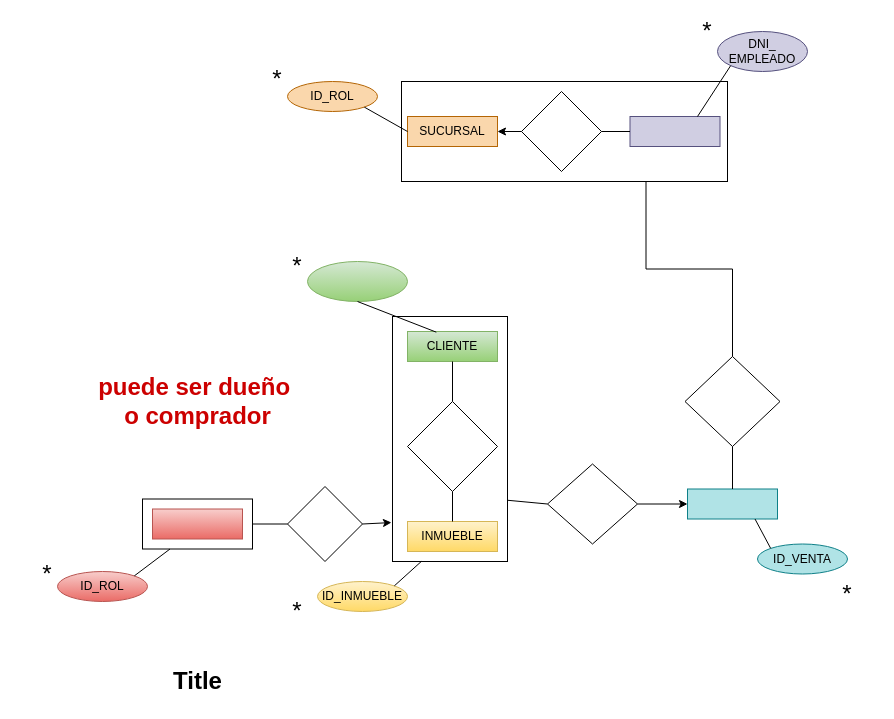
This 894x719 diagram has some shape labels left out. The centre of each missing label's shape, as x and y in pixels:
"DNI_CLIENTE" belongs at [357,281].
"EMPLEADO" belongs at [674,131].
"ROL" belongs at [197,523].
"VENTA" belongs at [732,503].
